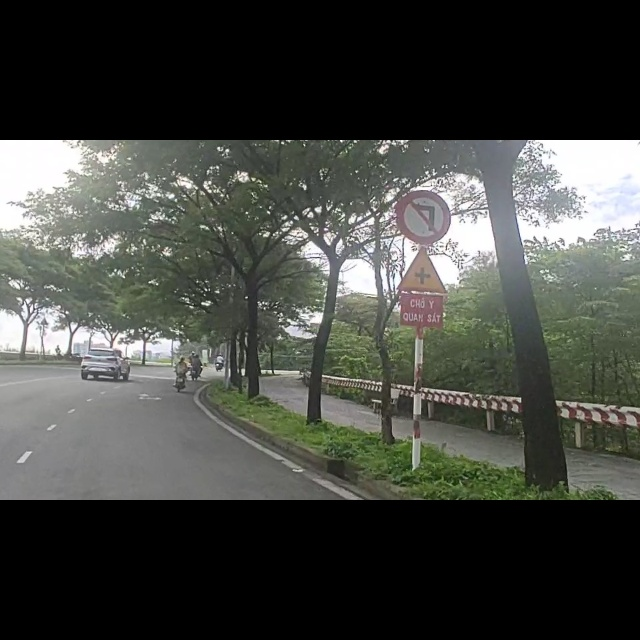bien_cam: (394, 85, 454, 185), (397, 186, 454, 276)
